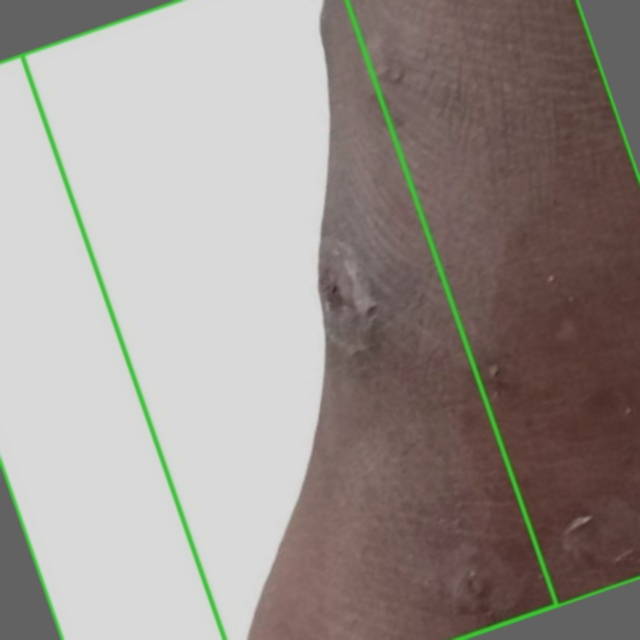Eczema: (21, 0, 639, 639), (0, 0, 558, 639)
